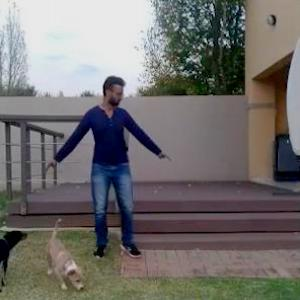land: (49, 88, 192, 250)
